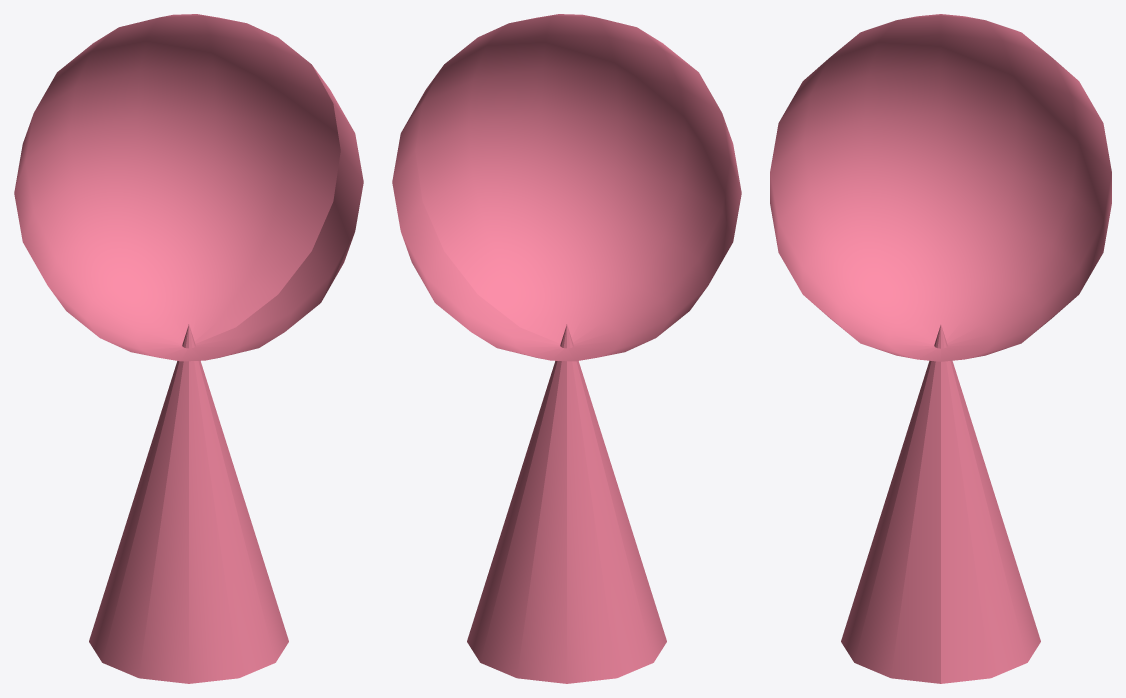
File: marker.glb
3 views of the same model, side by side, from view 1: azimuth 30°, elevation 25°; view 2: azimuth 150°, elevation 25°; view 3: azimuth 270°, elevation 25° (orthographic).
Parts seen in each view (by area): view 1: models/marker.glb_node_0, models/marker.glb_node_1; view 2: models/marker.glb_node_0, models/marker.glb_node_1; view 3: models/marker.glb_node_0, models/marker.glb_node_1.
Boxes of the visible parts, bbox=[...] form: models/marker.glb_node_0: bbox=[14, 14, 363, 361]; models/marker.glb_node_1: bbox=[89, 324, 288, 683]; models/marker.glb_node_0: bbox=[392, 14, 741, 361]; models/marker.glb_node_1: bbox=[467, 324, 666, 683]; models/marker.glb_node_0: bbox=[770, 14, 1111, 361]; models/marker.glb_node_1: bbox=[841, 325, 1040, 683].
Size of the model in its own units: 0.7 by 1.35 by 0.6824.
